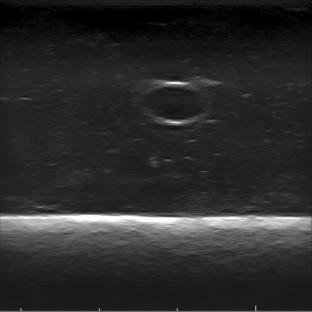vessel: (142, 81, 209, 126)
